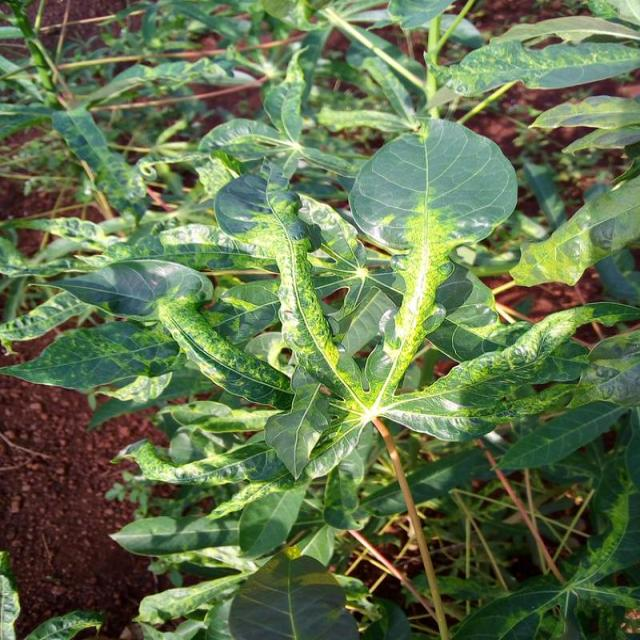cassava leaf: (0, 2, 638, 637), (346, 115, 518, 398)
